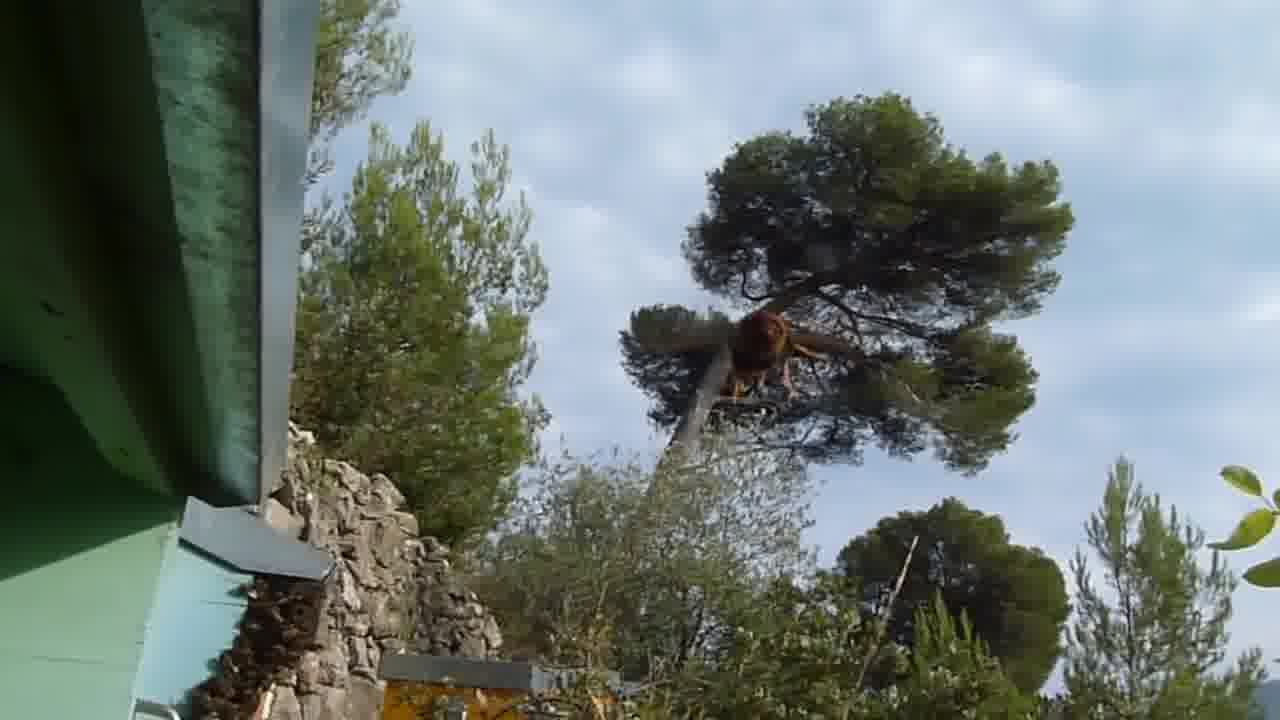bee: (229, 572, 336, 662), (187, 654, 272, 720)
hornet: (698, 299, 817, 404)
